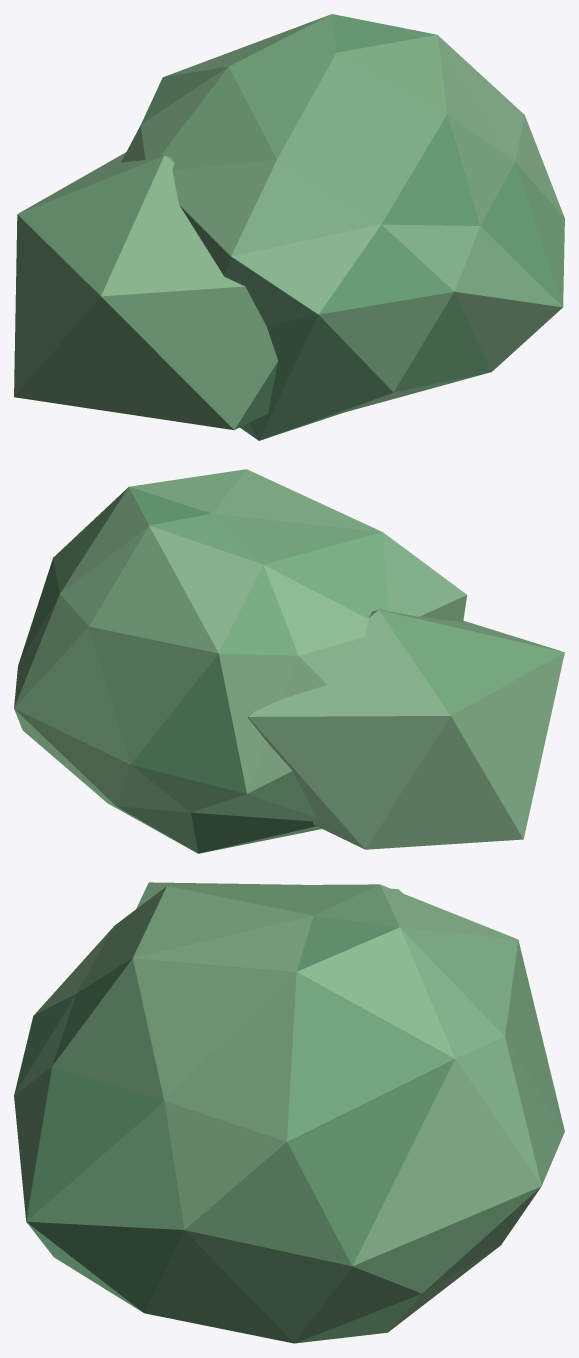
File: bush-00.glb
3 renders of one model, top to bottom at view 1: azimuth 30°, elevation 25°; view 2: azimuth 150°, elevation 25°; view 3: azimuth 270°, elevation 25°, orthographic. The views are drawn at different scales.
Parts seen in each view (by area): view 1: bush_00; view 2: bush_00; view 3: bush_00.
Boxes of the visible parts, <box> form: bush_00: <box>14,14,564,440</box>; bush_00: <box>14,469,564,853</box>; bush_00: <box>14,882,564,1343</box>.
Size of the model in its own units: 1.53 by 0.876 by 1.16.
